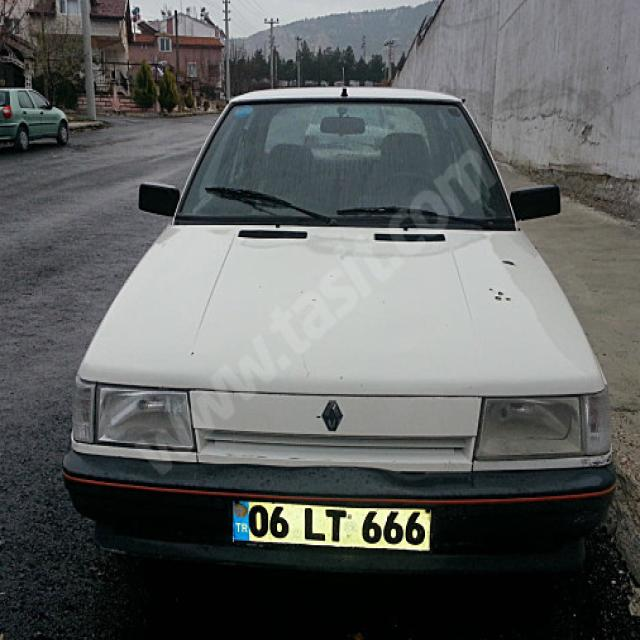license_plate: (230, 499, 434, 553)
